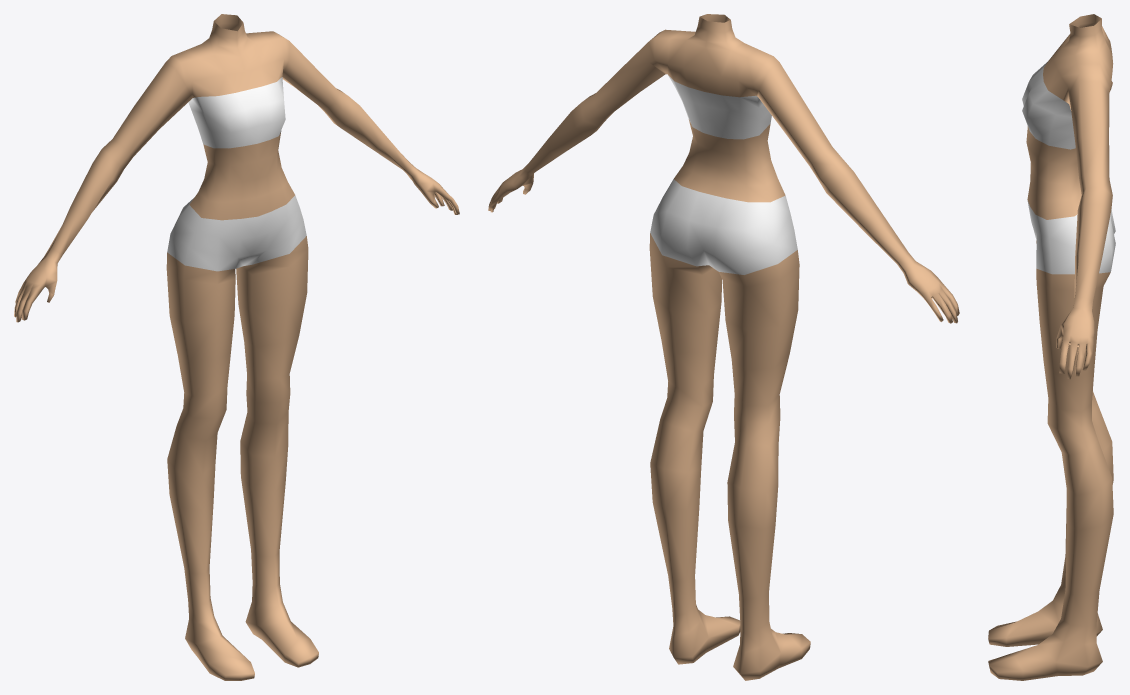
File: woman_body2.glb
3 views of the same model, side by side, from view 1: azimuth 30°, elevation 25°; view 2: azimuth 150°, elevation 25°; view 3: azimuth 270°, elevation 25° (orthographic). The views are drawn at different scales.
Parts seen in each view (by area): view 1: orian; view 2: orian; view 3: orian.
Boxes of the visible parts, x1,y1,x2,y2 form: orian: [14, 14, 459, 680]; orian: [488, 14, 959, 680]; orian: [988, 14, 1115, 680].
Size of the model in its own units: 1.09 by 1.47 by 0.2665.
